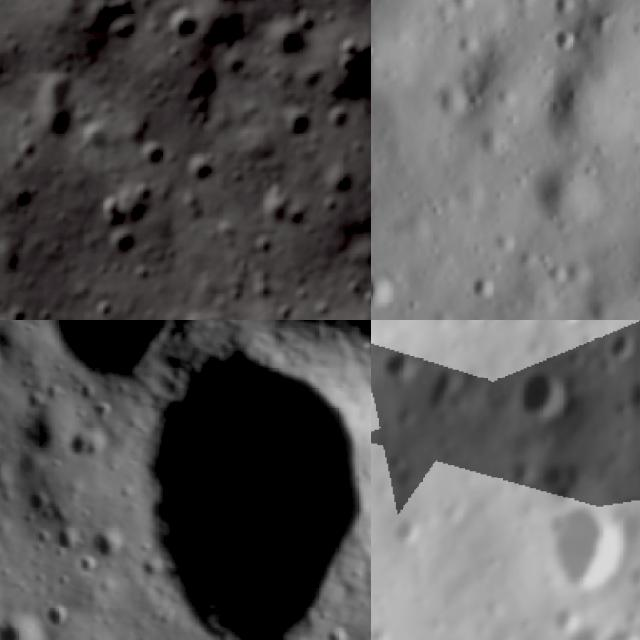crater: (125, 336, 371, 640), (22, 320, 190, 383), (540, 502, 634, 598), (516, 366, 573, 426), (538, 459, 592, 508), (174, 140, 223, 188), (421, 364, 466, 416), (162, 0, 205, 51), (463, 263, 507, 311), (61, 429, 112, 469), (101, 225, 146, 270), (380, 344, 422, 388), (0, 607, 51, 640), (48, 523, 86, 564), (78, 115, 114, 158), (371, 260, 398, 313), (541, 22, 583, 56), (389, 516, 426, 554), (88, 533, 125, 568), (39, 608, 80, 638), (604, 329, 640, 363), (72, 556, 107, 588), (594, 621, 640, 640), (619, 377, 640, 411), (371, 620, 398, 640), (551, 320, 588, 327)
